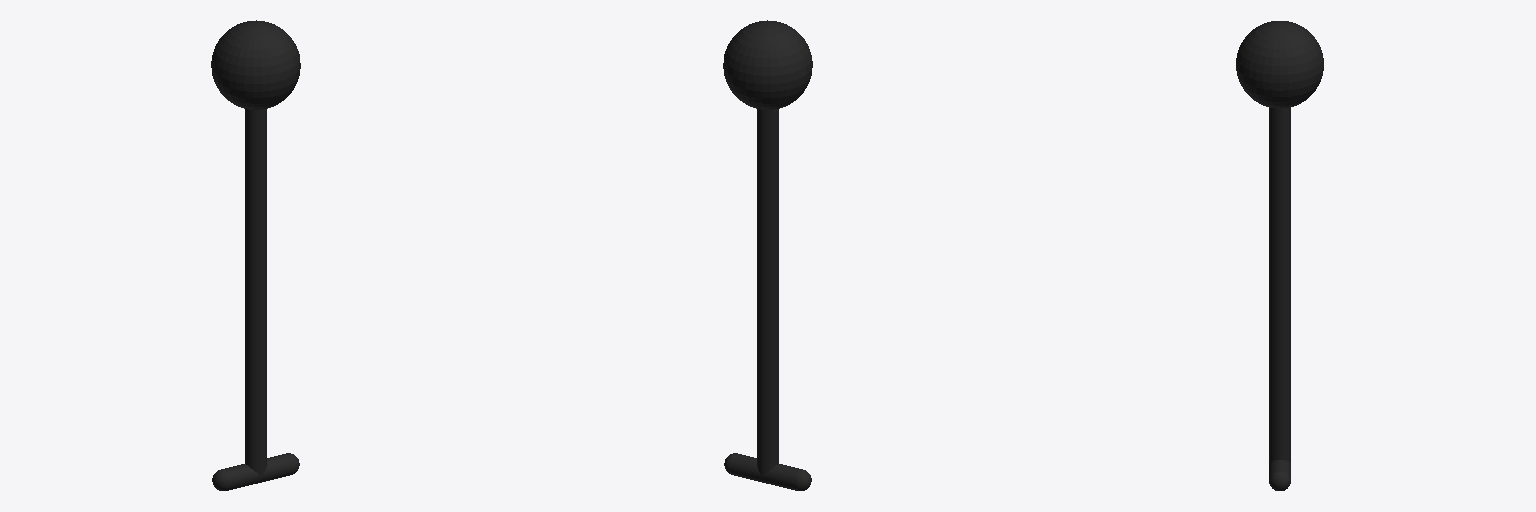
The robot description file, URDF, robot "footedhopper":
<?xml version="1.0"?>
<robot name = "footedhopper">
    <material name="grey">
        <color rgba="0.2 0.2 0.2 1.0"/>
    </material>
    <material name="silver">
        <color rgba="0.913725490196 0.913725490196 0.847058823529 1.0"/>
    </material>
    <!-- links section -->>
  	<link name="xtrans"/>
  	<link name="ztrans"/>
	<link name="base">
        <inertial>
            <origin xyz="0 0 0"/>
            <mass value="10"/>
            <inertia ixx="0.0001" ixy="0" ixz="0" iyy="0.0001" iyz="0.0" izz="0.0001"/>
        </inertial>
		<visual>
			<origin xyz = "0 0 0" />
			<geometry>
				<sphere radius="0.2"/>
			</geometry>
			<material name = "grey"/>
		</visual>
	</link>
	<link name="thigh">
        <inertial>
            <origin xyz="0 0 -0.5" rpy="0 0 0"/>
            <mass value="1"/>
            <inertia ixx="0.083" ixy="0.0" ixz="0.0" iyy="0.083" iyz="0.0" izz="0.00001"/>
        </inertial>
		<visual>
			<origin xyz = "0 0 -0.5" />
			<geometry>
				<cylinder radius = "0.05" length = "1"  />
			</geometry>
            <material name = "grey"/>
		</visual>
	</link>
	<link name="calf">
        <inertial>
            <origin xyz="0 0 -0.5" rpy="0 0 0"/>
            <mass value="1"/>
            <inertia ixx="0.083" ixy="0.0" ixz="0.0" iyy="0.083" iyz="0.0" izz="0.00001"/>
        </inertial>
		<visual>
			<origin xyz = "0 0 -0.5" />
			<geometry>
				<cylinder radius = "0.05" length = "1"  />
			</geometry>
            <material name = "grey"/>
		</visual>
	</link>
	<link name="foot">
		<visual>
          	<origin xyz = "0 0 0" rpy="0 0 0" />
			<geometry>
				<cylinder radius = "0.05" length = "0.333"  />
			</geometry>
            <material name = "grey"/>
		</visual>
        <inertial>
            <origin xyz="0 0 0" rpy="0.0 0.0 0.0"/>
            <mass value="0.333"/>
            <inertia ixx="0.0031" ixy="0.0" ixz="0.0" iyy="0.0031" iyz="0.0" izz="0.00001"/>
        </inertial>
		<collision>
            <origin xyz="0 0 0.167" rpy="0.0 0.0 0.0"/>
            <geometry>
                <sphere radius="0"/>
            </geometry>
        </collision> -->
        <!-- collision point 2 -->
        <collision>
        <origin xyz="0 0 -0.167"/>
            <geometry>
                <sphere radius="0"/>
            </geometry>
        </collision>
	</link>
    <!--These links are for visualization-->
	<link name="knee_sphere">
		<visual>
        	<origin xyz="0 0 0" rpy="0 0 0"/>
          	<geometry>
              <sphere radius="0.05"/>
          	</geometry>
            <material name = "grey"/>
        </visual>
        <inertial>
            <origin xyz="0 0 0"/>
            <mass value = "0.0001"/>
            <inertia ixx = "0.0001" iyy = "0.0001" izz = "0.0001" ixy = "0" ixz = "0" iyz = "0" />
        </inertial>
	</link>
	<link name="foot_sphere">
	    <visual>
        	<origin xyz="0 0 0"/>
          	<geometry>
              <sphere radius="0.05"/>
          	</geometry>
            <material name = "grey"/>
        </visual>
        <inertial>
            <origin xyz="0 0 0"/>
            <mass value = "0.0001"/>
            <inertia ixx = "0.0001" iyy = "0.0001" izz = "0.0001" ixy = "0" ixz = "0" iyz = "0" />
        </inertial>
	</link>
	<link name="toe_sphere">
	    <visual>
        	<origin xyz="0 0 0"/>
          	<geometry>
              <sphere radius="0.05"/>
          	</geometry>
            <material name = "grey"/>
        </visual>
        <inertial>
            <origin xyz="0 0 0"/>
            <mass value = "0.0001"/>
            <inertia ixx = "0.0001" iyy = "0.0001" izz = "0.0001" ixy = "0" ixz = "0" iyz = "0" />
        </inertial>
	</link>
	<link name="ankle_sphere">
	    <visual>
        	<origin xyz="0 0 0"/>
          	<geometry>
              <sphere radius="0.05"/>
          	</geometry>
            <material name = "grey"/>
        </visual>
        <inertial>
            <origin xyz="0 0 0"/>
            <mass value = "0.0001"/>
            <inertia ixx = "0.0001" iyy = "0.0001" izz = "0.0001" ixy = "0" ixz = "0" iyz = "0" />
        </inertial>
	</link>
	<!-- joints section -->>
	<joint name="xslide" type="prismatic">
      	<parent link="xtrans"/>
      	<child link="ztrans"/>
      	<origin xyz="0 0 0"/>
      	<axis xyz="1 0 0"/>
	</joint>
	<joint name="zslide" type="prismatic">
      	<parent link="ztrans"/>
      	<child link="base"/>
      	<origin xyz="0 0 0"/>
      	<axis xyz="0 0 1"/>
	</joint>
	<joint name="hip" type="revolute">
		<parent link="base" />
		<child link="thigh" />
		<origin xyz="0 0 0" />
		<axis xyz="0 -1 0" />
		<limit lower="-1.57" upper="1.57"/>
	</joint>
	<joint name="knee" type="revolute">
		<parent link="thigh" />
		<child link="calf" />
		<origin xyz="0 0 -1" />
		<axis xyz = "0 -1 0" />
		<limit lower="-2.09" upper="1.05"/>
	</joint>
	<joint name="ankle" type="revolute">
      	<parent link="calf"/>
      	<child link="foot"/>
      	<origin xyz="0 0 -1"/>
      	<axis xyz="0 -1 0"/>
		<limit lower="0.5235" upper="2.618"/>
	</joint>
      
    <!--These joint are for visualization-->
	<joint name="kneecap" type="fixed">
      <parent link="thigh"/>
      <child link="knee_sphere"/>
      <origin xyz="0 0 -1"/>
      <axis xyz="1 0 0"/>
	</joint>
	<joint name="footcap" type="fixed">
      <parent link="calf"/>
      <child link="foot_sphere"/>
      <origin xyz="0 0 -1"/>
      <axis xyz="1 0 0"/>
	</joint>
	<joint name="toecap" type="fixed">
      	<parent link="foot"/>
      	<child link="toe_sphere"/>
      	<origin xyz="0 0 0.167"/>
      	<axis xyz="1 0 0"/>
</joint>
	<joint name="anklecap" type="fixed">
      	<parent link="foot"/>
      	<child link="ankle_sphere"/>
      	<origin xyz="0 0 -0.167"/>
      	<axis xyz="1 0 0"/>
</joint>
    <!-- actuator section -->
    <transmission name = "hip_transmission">
        <type>transmission_interface/SimpleTransmission</type>
        <joint name="hip"/>
        <actuator name="hip_actuator">
            <mechanicalReduction>1</mechanicalReduction>
        </actuator>
    </transmission>
    <transmission name="knee_actuation">
        <type>transmission_interface/SimpleTransmission</type>
        <joint name="knee"/>
        <actuator name="knee_actuator">
            <mechanicalReduction>1</mechanicalReduction>
        </actuator>
    </transmission>
    <transmission name="ankle_actuation">
        <type>transmission_interface/SimpleTransmission</type>
        <joint name="ankle"/>
        <actuator name="ankle_actuator">
            <mechanicalReduction>1</mechanicalReduction>
        </actuator>
    </transmission>
</robot>

--- Render facts (derived) ---
The picture shows the robot from 3 angles, left to right: view 1: azimuth 30°, elevation 25°; view 2: azimuth 150°, elevation 25°; view 3: azimuth 270°, elevation 25°; orthographic projection.
Robot: footedhopper — 10 links, 9 joints (3 revolute, 2 prismatic, 4 fixed); root link xtrans; default pose: all joints at 0 but 1 set to mid-range because 0 is outside their limits (ankle = 1.57).
Links seen in each view (by area): view 1: base, calf, thigh, foot; view 2: base, calf, thigh, foot; view 3: base, calf, thigh.
Link boxes in pixels (x1,y1,x2,y2): base: (211, 20, 300, 109); calf: (245, 270, 266, 475); thigh: (245, 109, 266, 273); foot: (223, 454, 293, 490); base: (723, 20, 812, 109); calf: (757, 270, 778, 475); thigh: (757, 109, 778, 273); foot: (730, 454, 800, 490); base: (1236, 21, 1323, 108); calf: (1269, 266, 1290, 462); thigh: (1269, 107, 1290, 268).
Size in the robot's own frame: 0.434 by 0.4 by 2.25 metres.
Geometry: primitives only (box / cylinder / sphere), no mesh files.
